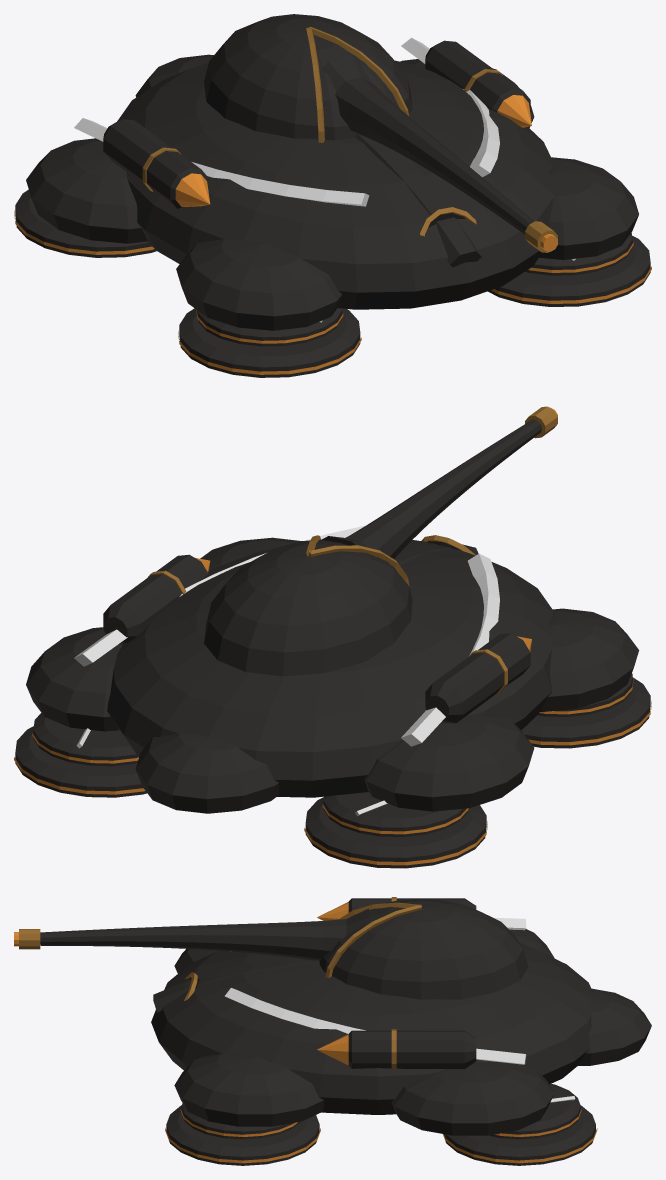
File: tank_t3.glb
The picture shows the model from 3 angles, top to bottom: view 1: azimuth 30°, elevation 25°; view 2: azimuth 150°, elevation 25°; view 3: azimuth 270°, elevation 25°; orthographic projection. The views are drawn at different scales.
Parts seen in each view (by area): view 1: body, top; view 2: body, top; view 3: body, top.
Part boxes in pixels (x1,y1,x2,y2): body: [14, 37, 651, 377]; top: [204, 14, 557, 252]; body: [14, 525, 651, 868]; top: [204, 406, 557, 676]; body: [151, 897, 651, 1165]; top: [14, 899, 528, 999].
Bounding box in the file's own units: 8.66 × 3.6 × 11.95.
